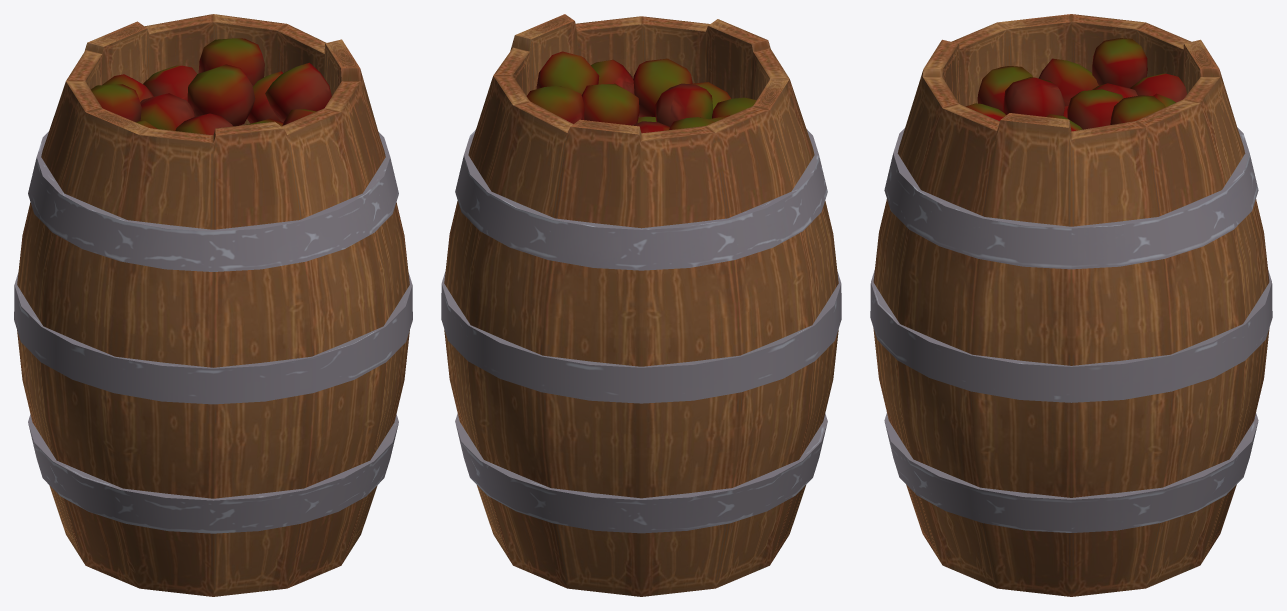
Rendered from barrel_apples.gltf.
3 views of the same model, side by side, from view 1: azimuth 30°, elevation 25°; view 2: azimuth 150°, elevation 25°; view 3: azimuth 270°, elevation 25° (orthographic).
Visible parts, largest first — view 1: Barrel_Apples; view 2: Barrel_Apples; view 3: Barrel_Apples.
Part boxes in pixels (x1,y1,x2,y2): Barrel_Apples: (14,14,412,596); Barrel_Apples: (441,14,841,596); Barrel_Apples: (870,14,1272,596).
Size of the model in its own units: 0.698 by 0.898 by 0.698.
3 materials, 3 textured.
